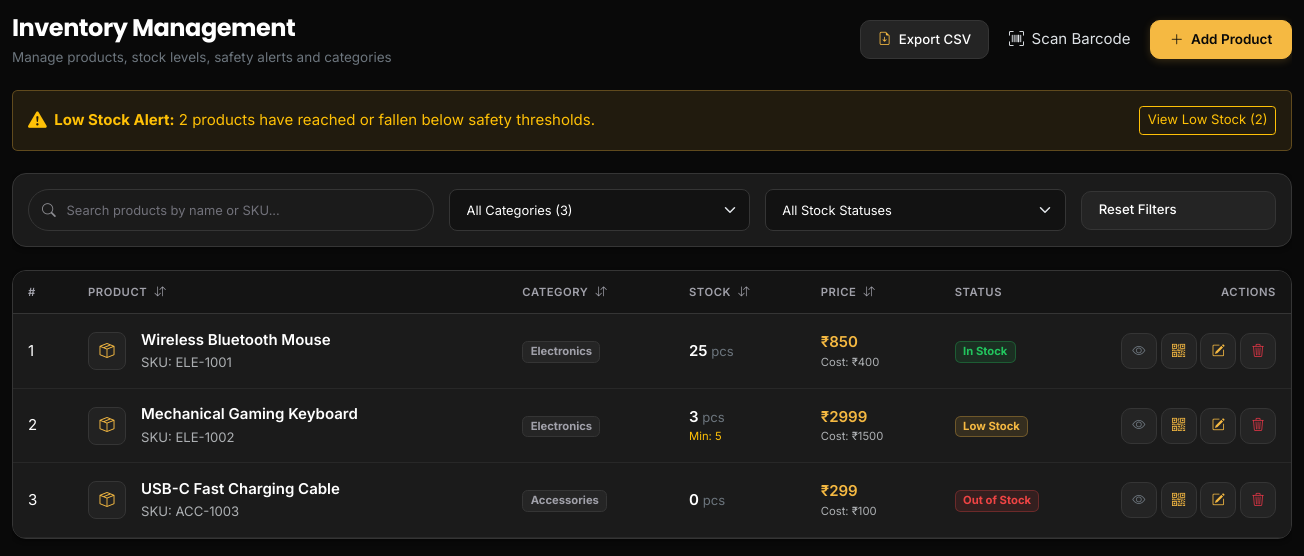
Test case: Integration — Inventory Management Catalog & CRUD › filters by stock status (e.g. Out of Stock)
This screenshot has width=1304, height=556.
Select "Out of Stock" in the 2nd dropdown showing "All Stock Statuses": {"x": 915, "y": 210} [765, 189, 1066, 231]
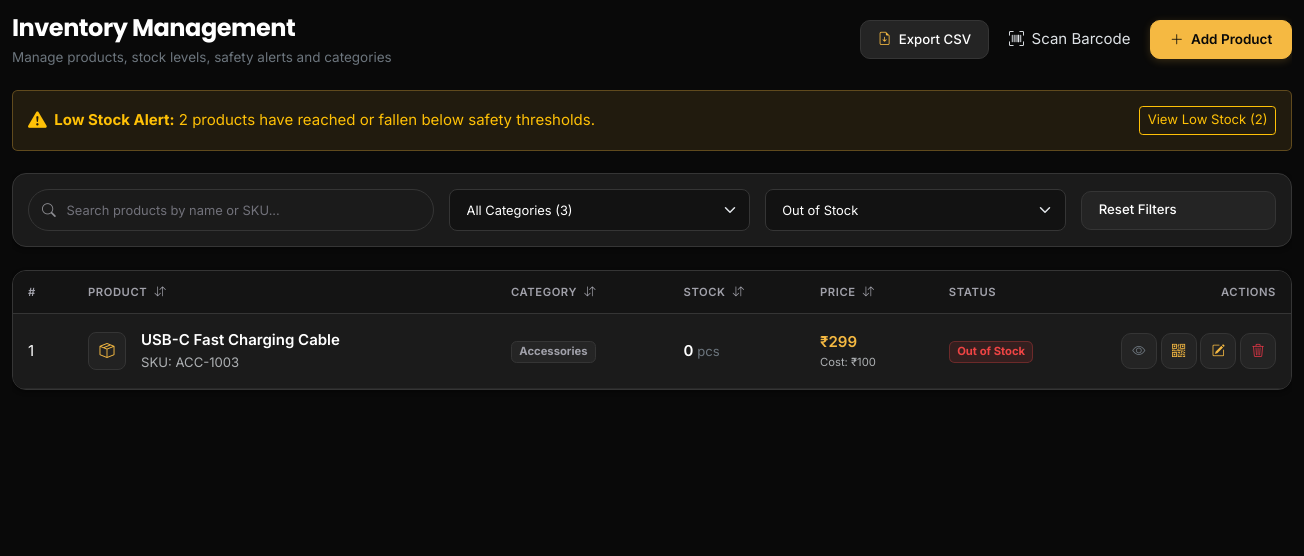
Check: the text "USB-C Fast Charging Cable" is shown, box [141, 328, 340, 351]
Check: the text "Wireless Bluetooth Mouse" is gone
